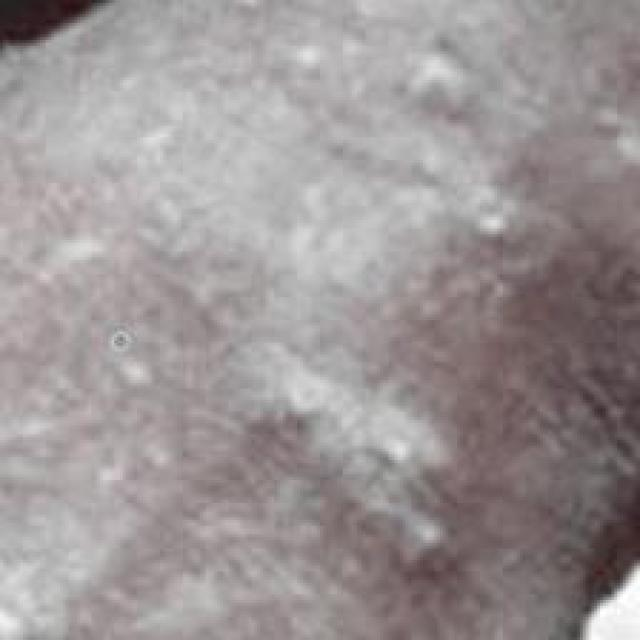monkeypox: (24, 65, 587, 580)
